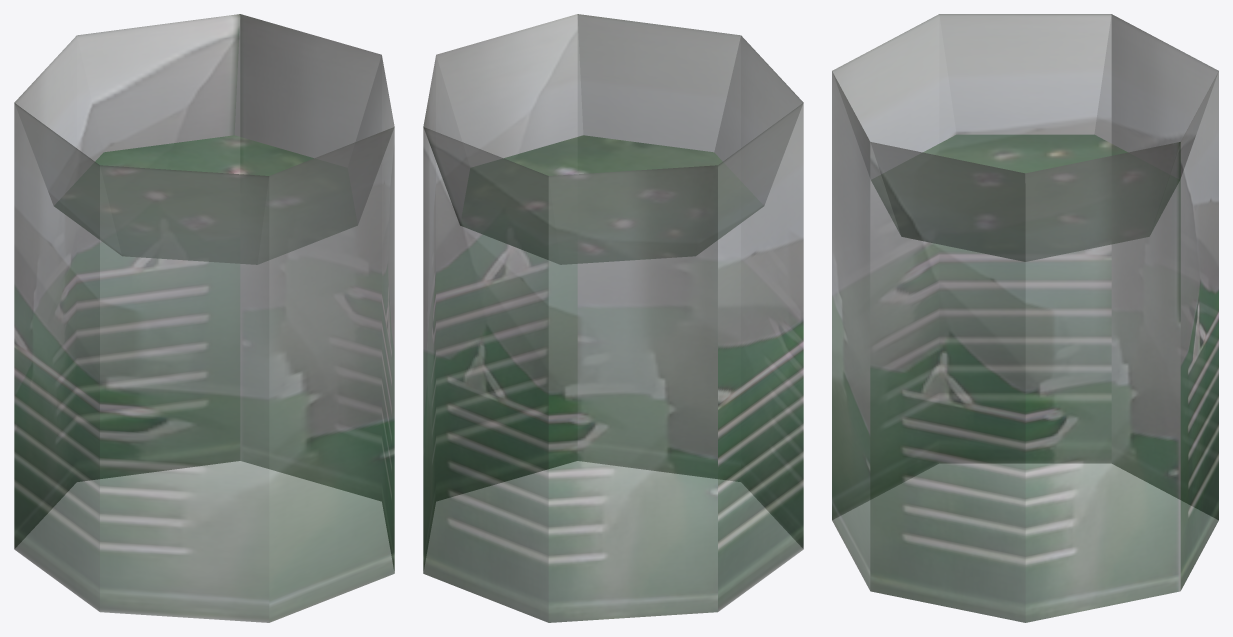
The model's file is mm9_deco_beaker01.glb.
The picture shows the model from 3 angles, left to right: view 1: azimuth 30°, elevation 25°; view 2: azimuth 150°, elevation 25°; view 3: azimuth 270°, elevation 25°; orthographic projection.
Visible parts, largest first — view 1: Beaker01; view 2: Beaker01; view 3: Beaker01.
Boxes of the visible parts, x1=… form: Beaker01: x1=14, y1=14, x2=394, y2=622; Beaker01: x1=423, y1=14, x2=803, y2=622; Beaker01: x1=832, y1=14, x2=1218, y2=622.
Bounding box in the file's own units: 0.2383 × 0.3133 × 0.2444.
Materials: 1 (1 with a texture image).
